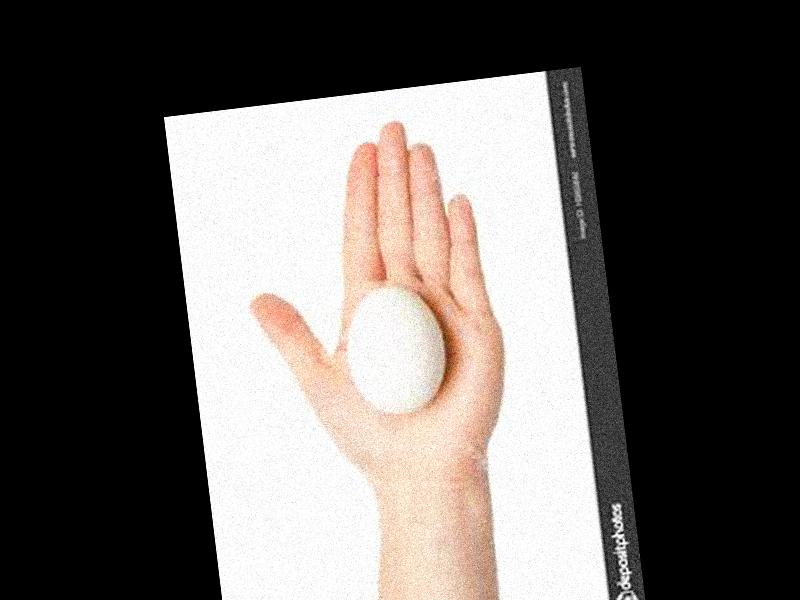Eggs: (342, 281, 447, 418)
